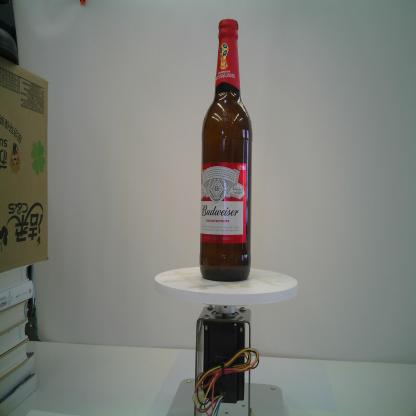Alcohol: (200, 18, 254, 282)
